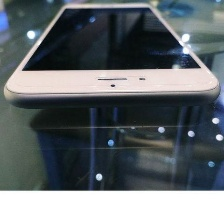phone: (0, 0, 221, 110)
